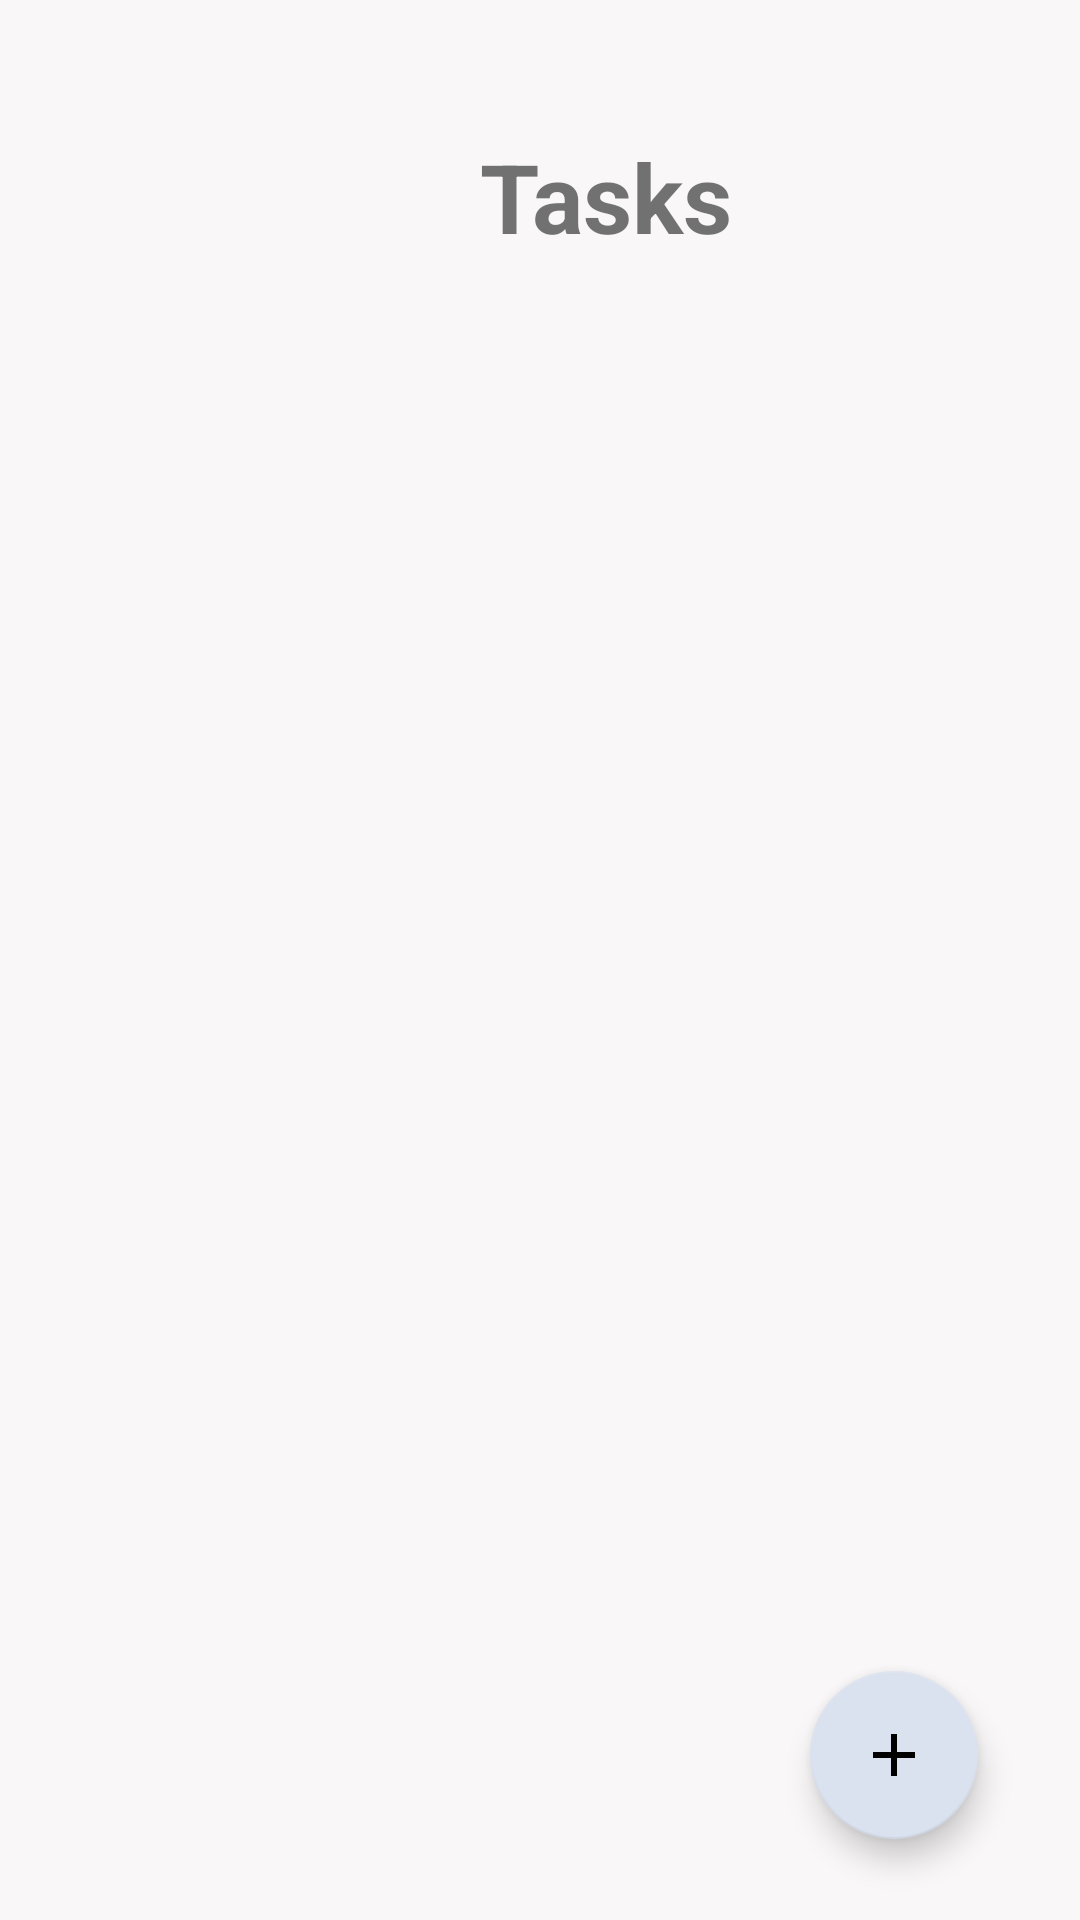

Icons on this 1080×1920 Android screen, each with its box as [x1, y1, x2, y2]:
add: [810, 1671, 978, 1839]
